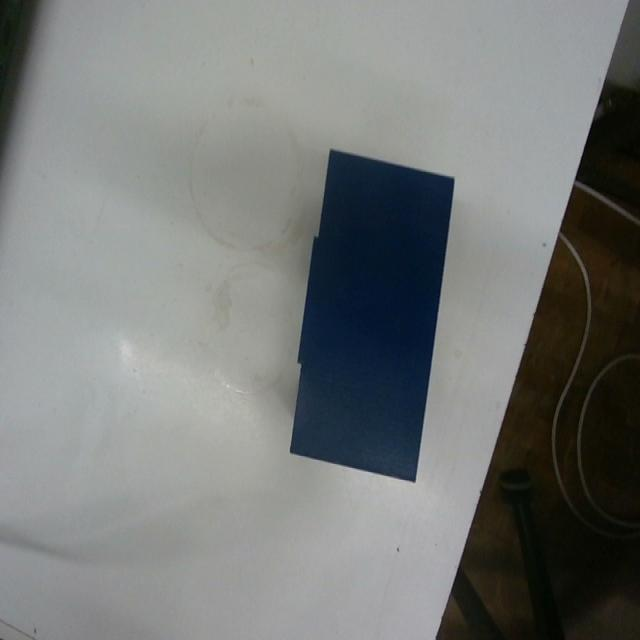Blue Cuboid: (287, 144, 455, 484)
